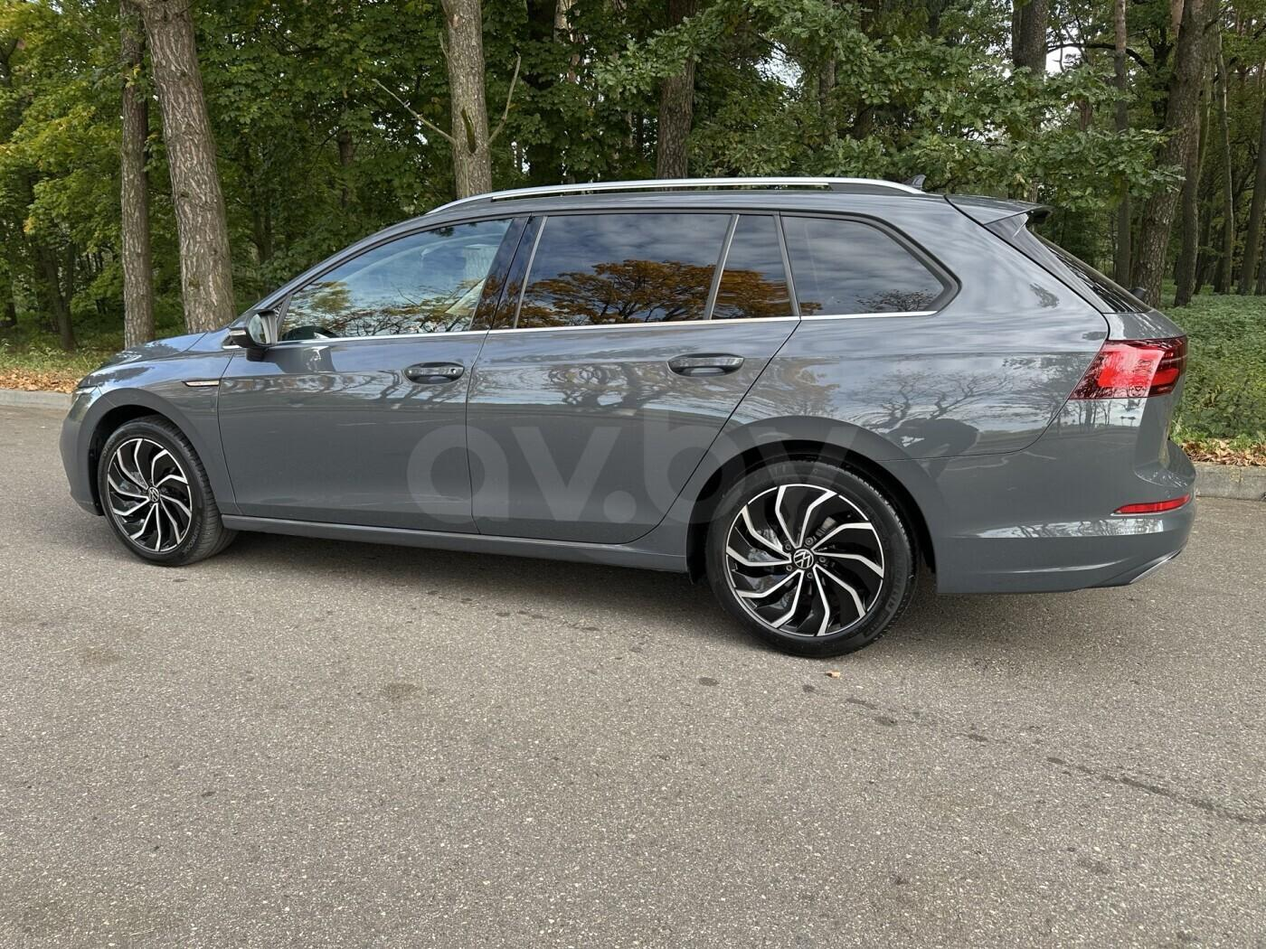Golf_2019: (56, 178, 1192, 666)
